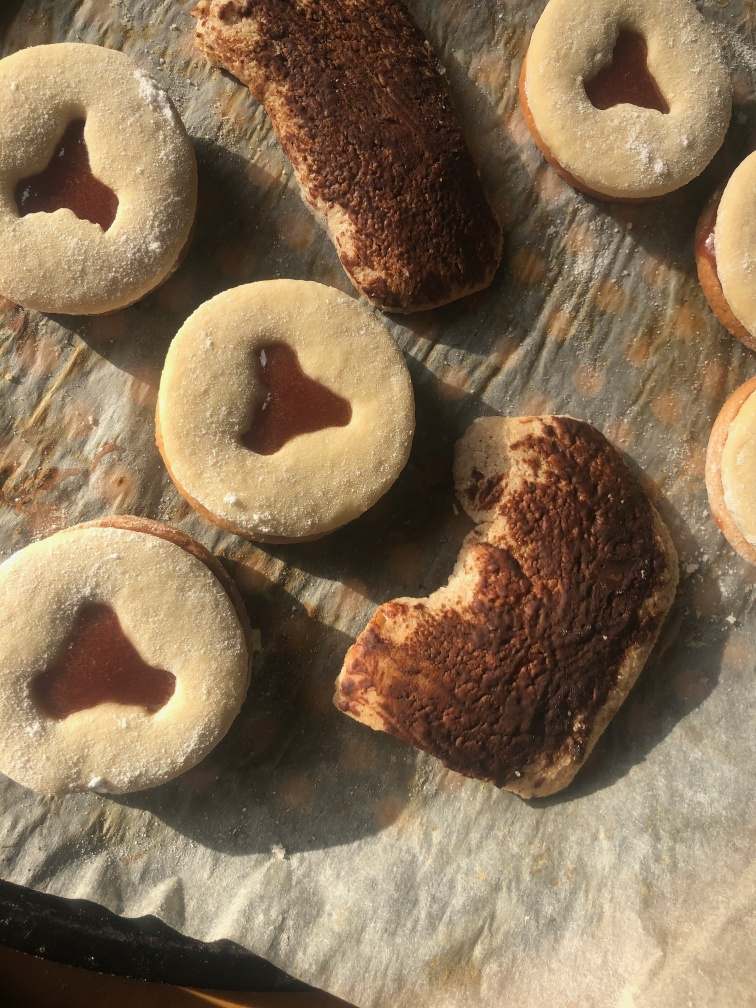christmas shortbread with jam: (1, 512, 259, 805), (152, 275, 419, 549), (1, 37, 200, 315), (520, 1, 736, 200), (697, 146, 756, 354)
weird #1: (328, 410, 691, 816), (194, 3, 515, 312)
